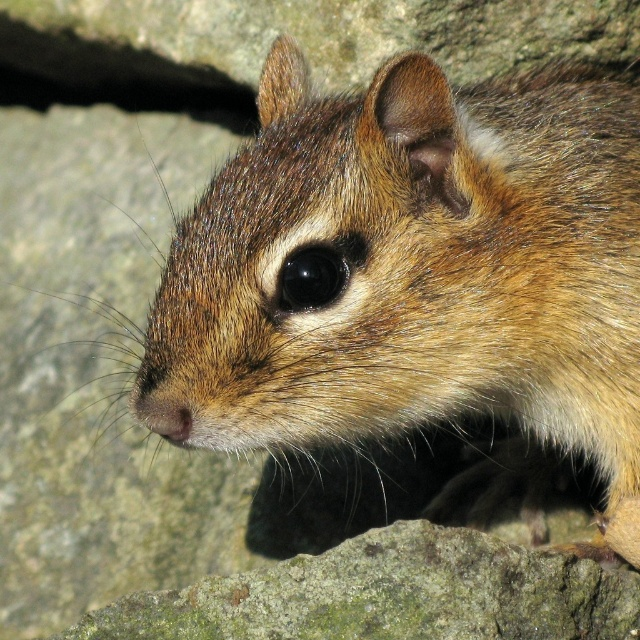Mouse: (124, 22, 621, 542)
